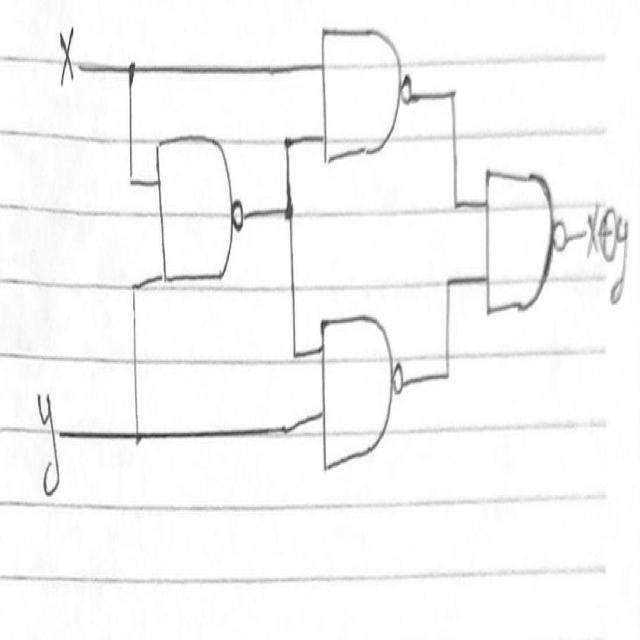NAND: (152, 116, 252, 316), (476, 134, 570, 344), (317, 13, 417, 196), (309, 298, 409, 476)
